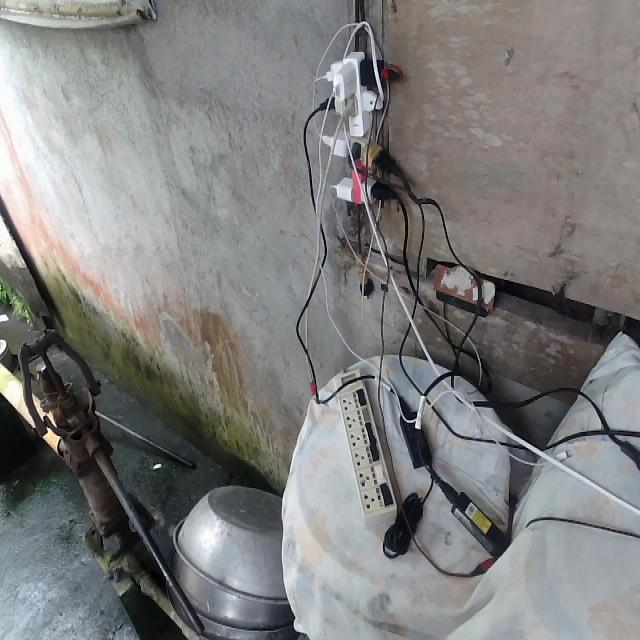-: (310, 48, 395, 207)
